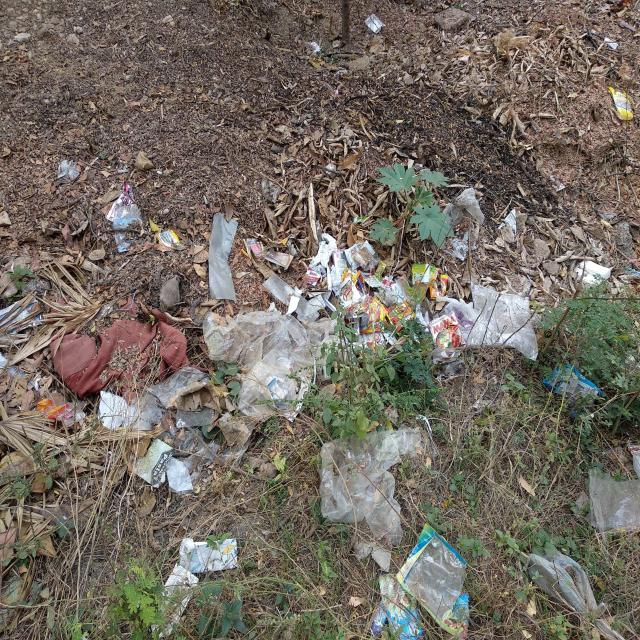litter: (123, 364, 244, 491), (205, 311, 344, 419), (53, 292, 188, 397), (321, 429, 424, 537), (150, 540, 235, 633), (441, 281, 536, 360), (396, 521, 468, 623), (342, 243, 411, 343), (588, 471, 638, 535), (104, 188, 145, 249), (546, 360, 600, 401), (430, 315, 460, 360), (612, 90, 634, 119), (152, 228, 180, 250), (413, 263, 438, 284), (329, 237, 349, 261), (326, 261, 349, 276)
